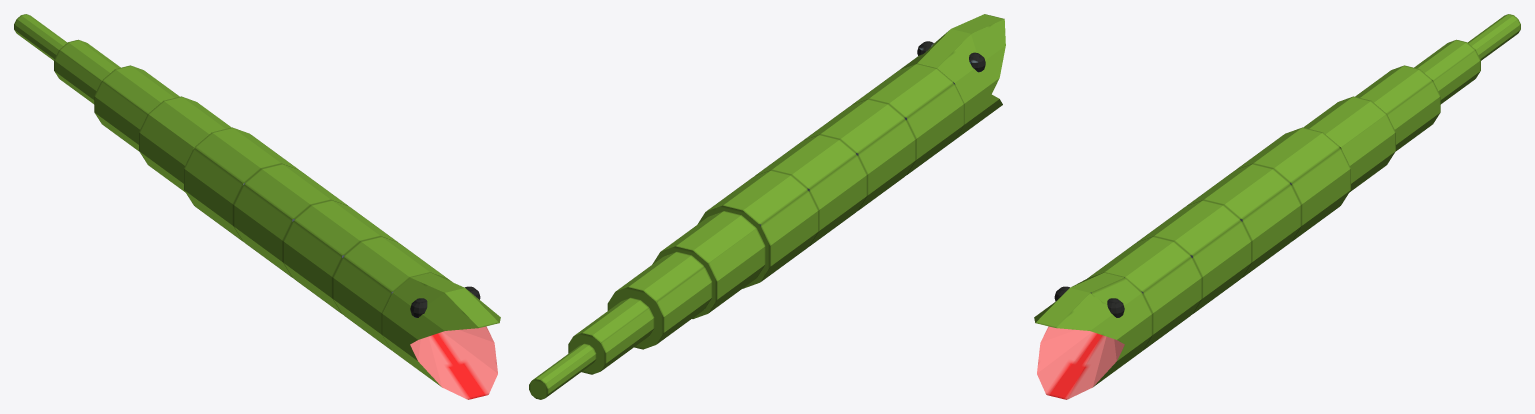
The model's file is Snake.fbx.
The picture shows the model from 3 angles, left to right: view 1: azimuth 30°, elevation 25°; view 2: azimuth 150°, elevation 25°; view 3: azimuth 330°, elevation 25°; orthographic projection. The views are drawn at different scales.
Visible parts, largest first — view 1: Head, cylinder, cylinder_1, cylinder_2, cylinder_3, cylinder_4, cylinder_5, cylinder_6, cylinder_7; view 2: cylinder_3, Head, cylinder, cylinder_1, cylinder_2, cylinder_4, cylinder_5, cylinder_6, cylinder_7; view 3: Head, cylinder, cylinder_1, cylinder_2, cylinder_3, cylinder_4, cylinder_5, cylinder_6, cylinder_7.
Part boxes in pixels (<box>): Head: <box>382,272,500,399</box>; cylinder: <box>332,236,447,350</box>; cylinder_1: <box>283,200,397,314</box>; cylinder_2: <box>233,164,347,277</box>; cylinder_3: <box>184,127,298,241</box>; cylinder_4: <box>139,96,231,192</box>; cylinder_5: <box>94,65,179,150</box>; cylinder_6: <box>54,39,120,104</box>; cylinder_7: <box>14,14,67,60</box>; cylinder_3: <box>697,170,818,288</box>; Head: <box>900,14,1005,140</box>; cylinder: <box>852,63,964,175</box>; cylinder_1: <box>803,99,915,211</box>; cylinder_2: <box>754,134,867,246</box>; cylinder_4: <box>652,211,765,318</box>; cylinder_5: <box>607,251,712,349</box>; cylinder_6: <box>568,297,654,374</box>; cylinder_7: <box>529,343,596,399</box>; Head: <box>1034,272,1152,399</box>; cylinder: <box>1087,236,1202,350</box>; cylinder_1: <box>1137,200,1251,314</box>; cylinder_2: <box>1187,164,1301,277</box>; cylinder_3: <box>1236,127,1350,241</box>; cylinder_4: <box>1291,96,1395,192</box>; cylinder_5: <box>1355,65,1440,150</box>; cylinder_6: <box>1414,39,1480,104</box>; cylinder_7: <box>1467,14,1520,60</box>.
Size of the model in its own units: 100 by 113 by 1056.
1 material, 1 textured.
